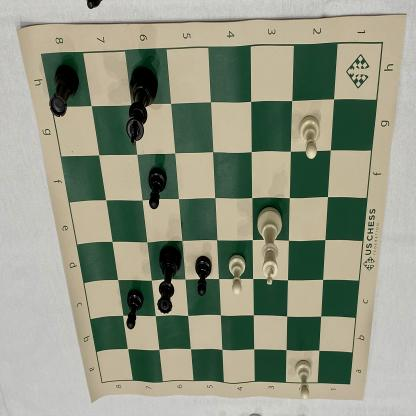black-king: (124, 61, 160, 150)
black-pawn: (145, 163, 171, 215), (123, 286, 147, 334), (192, 252, 214, 298)
black-queen: (156, 241, 185, 318)
black-rook: (48, 61, 83, 123)
white-king: (253, 204, 287, 287)
white-pawn: (297, 114, 325, 164), (292, 357, 318, 402), (227, 251, 250, 299)
